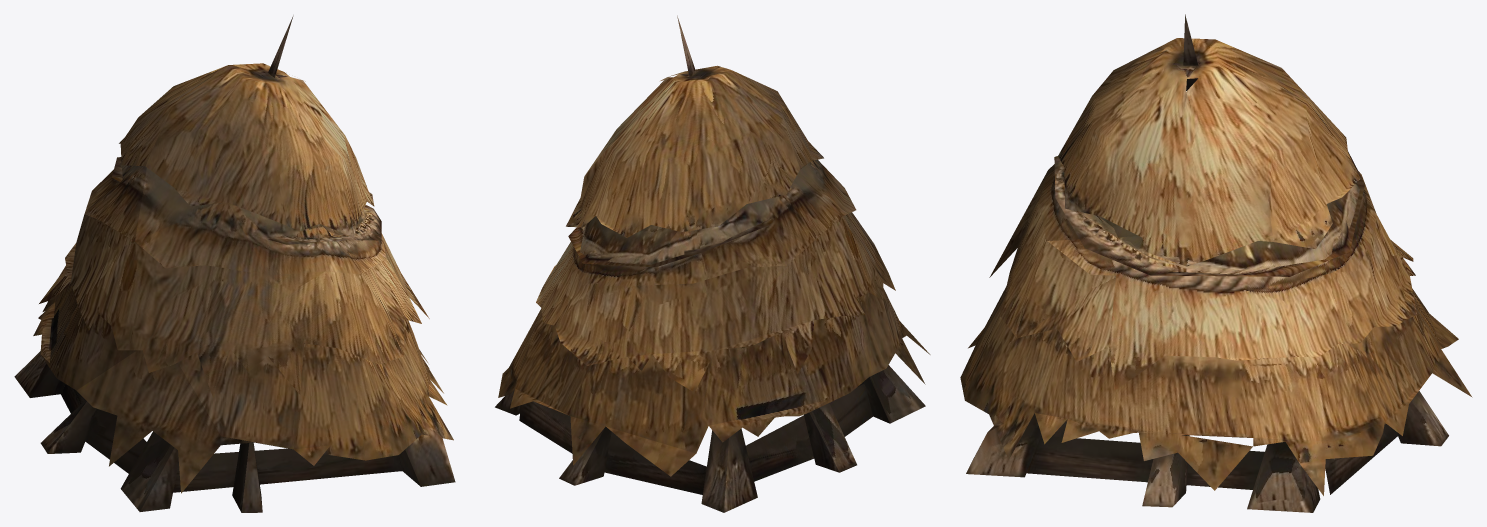
The model's file is act1_kit_v1_hay_rick.glb.
3 renders of one model, left to right at view 1: azimuth 30°, elevation 25°; view 2: azimuth 150°, elevation 25°; view 3: azimuth 270°, elevation 25°, orthographic. The views are drawn at different scales.
Parts seen in each view (by area): view 1: A08_4_hay_rick; view 2: A08_4_hay_rick; view 3: A08_4_hay_rick.
Boxes of the visible parts, x1,y1,x2,y2 form: A08_4_hay_rick: (14, 15, 455, 512); A08_4_hay_rick: (495, 15, 930, 512); A08_4_hay_rick: (960, 14, 1472, 512).
Size of the model in its own units: 0.8134 by 0.8674 by 0.9362.
1 material, 1 textured.
